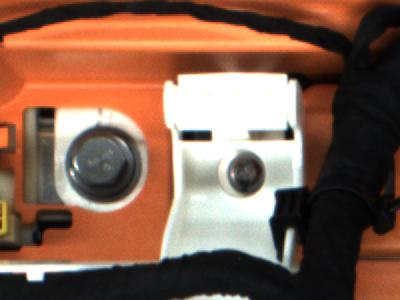nut_b: (64, 124, 147, 208)
